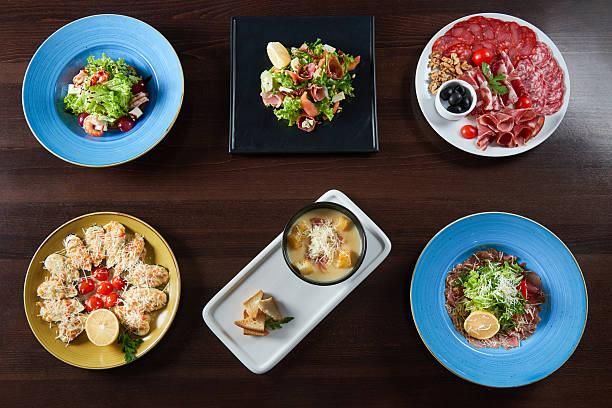Braised Crucian Carp: (203, 188, 390, 375), (410, 210, 588, 388), (22, 9, 187, 171), (22, 211, 182, 372), (414, 12, 571, 158), (229, 15, 377, 156), (434, 78, 477, 120)
